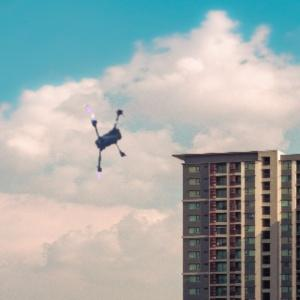drone: (65, 92, 147, 174)
